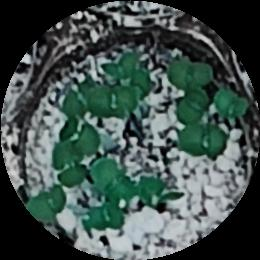Basil: (175, 128, 226, 157), (52, 143, 84, 187), (94, 163, 128, 204), (26, 189, 63, 226), (65, 119, 98, 156), (119, 58, 151, 96), (92, 90, 136, 117), (176, 88, 206, 125), (169, 62, 208, 89), (87, 205, 126, 230), (130, 177, 164, 205), (67, 82, 94, 116), (217, 90, 244, 122)
